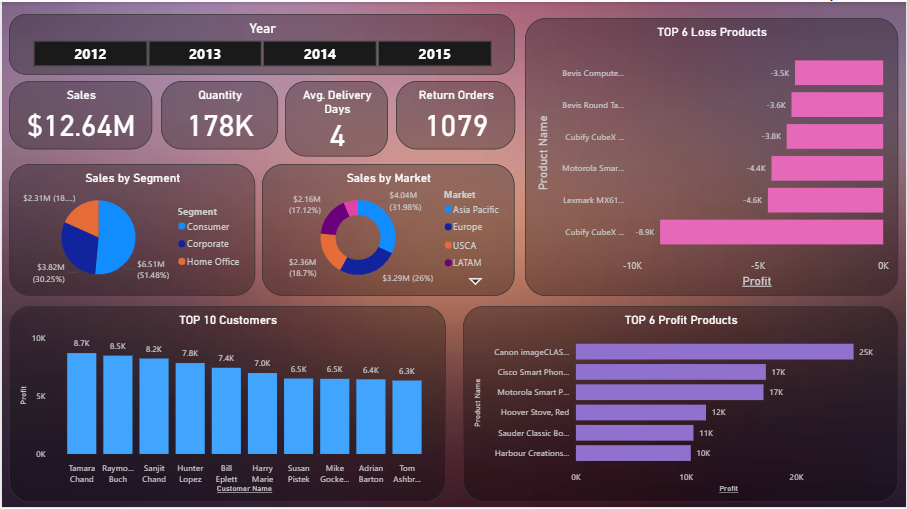

Layout of this report page (visuals, bound fields, positions):
{"tool":"powerbi","page":{"name":"P","canvas":[1280,720],"ordinal":0},"visuals":[{"type":"card","title":"Sales","fields":{"Values":["Orders.Sales"]},"box":[9.9,112.7,202.8,97.2],"z":0},{"type":"card","title":"Quantity","fields":{"Values":["Orders.Quantity"]},"box":[225.4,112.7,166.2,97.2],"z":1000},{"type":"card","title":"Avg. Delivery Days","fields":{"Values":["Orders.Delivery Days"]},"box":[401.4,112.7,146.5,107],"z":2000},{"type":"slicer","title":"Year","fields":{"Values":["Orders.Year"]},"box":[9.9,16.9,716.9,85.9],"z":3000},{"type":"card","title":"Return Orders","fields":{"Values":["Returns.Return Orders"]},"box":[557.7,112.7,169,97.2],"z":4000},{"type":"barChart","title":"TOP 6 Profit  Products","fields":{"Category":["Orders.Product Name"],"Y":["Orders.Profit"]},"box":[653.4,430.9,616.5,277.8],"z":6000},{"type":"barChart","title":"TOP 6 Loss  Products","fields":{"Category":["Orders.Product Name"],"Y":["Orders.Profit"]},"box":[741.3,22.7,528.7,394],"z":7000},{"type":"pieChart","fields":{"Category":["Orders.Segment"],"Y":["Orders.Sales"]},"box":[9.9,229.6,349.3,187.3],"z":8000},{"type":"donutChart","fields":{"Y":["Orders.Sales"],"Category":["Orders.Market"]},"box":[369,229.6,357.7,187.3],"z":9000},{"type":"columnChart","title":"TOP 10 Customers","fields":{"Y":["Orders.Profit"],"Category":["Orders.Customer Name"]},"box":[9.9,430.9,619.4,277.8],"z":10000}]}

Visuals, with their boxes in screenshot pixels (x1, y1, x2, y2), scaled from the page's 1280x720 canvas onto the 907x509 screenshot:
"Sales" card: (7,80,151,148)
"Quantity" card: (160,80,277,148)
"Avg. Delivery Days" card: (284,80,388,155)
"Year" slicer: (7,12,515,73)
"Return Orders" card: (395,80,515,148)
"TOP 6 Profit  Products" barChart: (463,305,900,501)
"TOP 6 Loss  Products" barChart: (525,16,900,295)
pieChart - Orders.Segment x Orders.Sales: (7,162,255,295)
donutChart - Orders.Sales x Orders.Market: (261,162,515,295)
"TOP 10 Customers" columnChart: (7,305,446,501)
